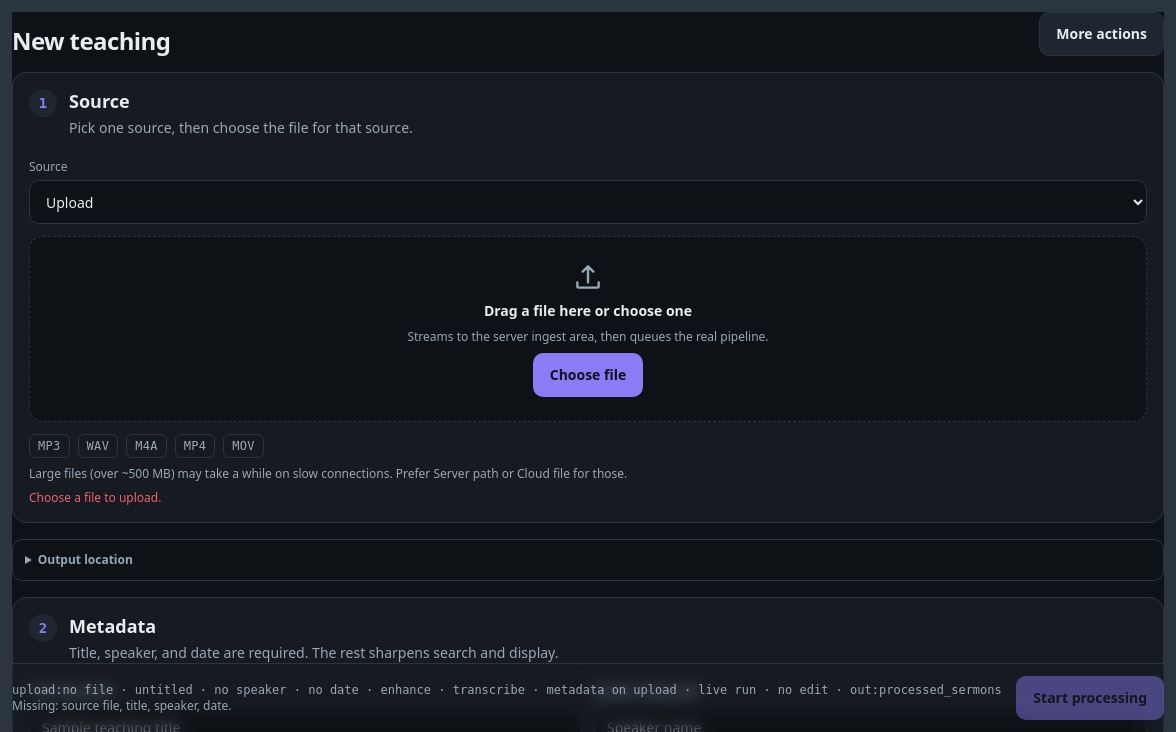
Test: NewSermon source options › exposes one source select and shows only the picker for the chosen source
Check: the panel with id "source-panel-browser" is shown, box 29,236 -> 1147,506
Select "Server path" in the dropdown labelled "Source" at (588, 202), box 29,180 -> 1147,224
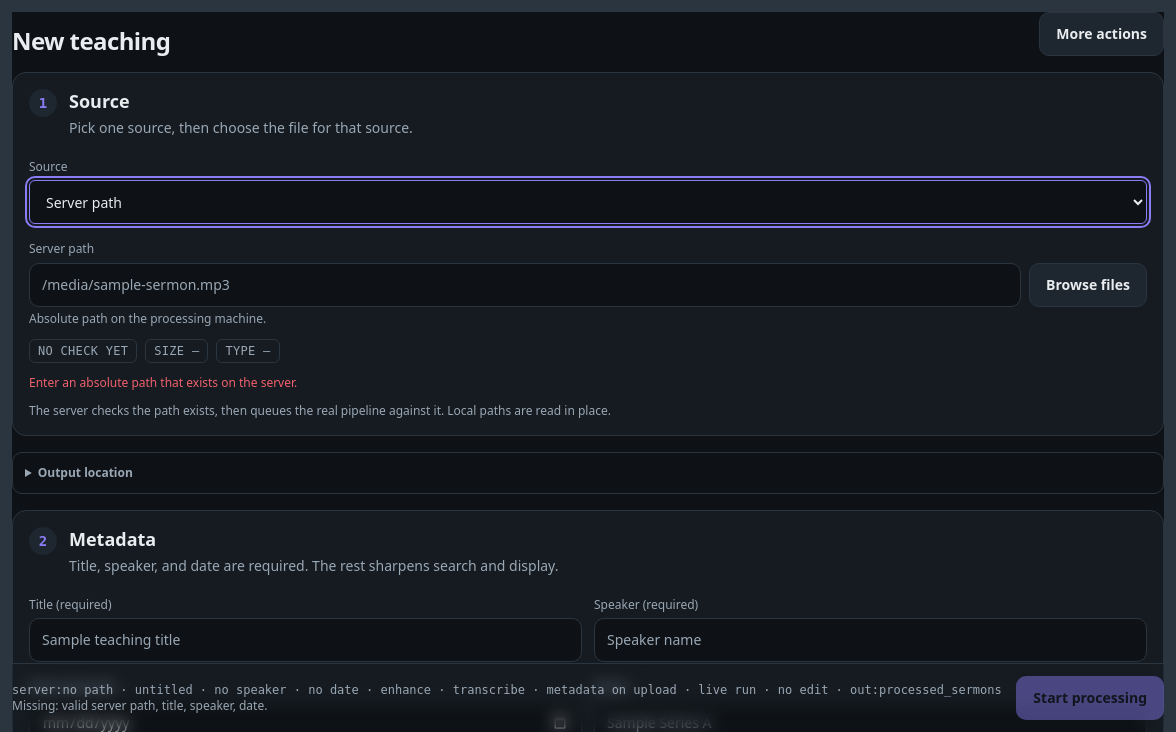
Check: the panel with id "source-panel-server" is shown, box 29,236 -> 1147,419
Check: the panel with id "source-panel-browser" is gone
Select "Cloud file" in the dropdown labelled "Source" at (588, 202), box 29,180 -> 1147,224
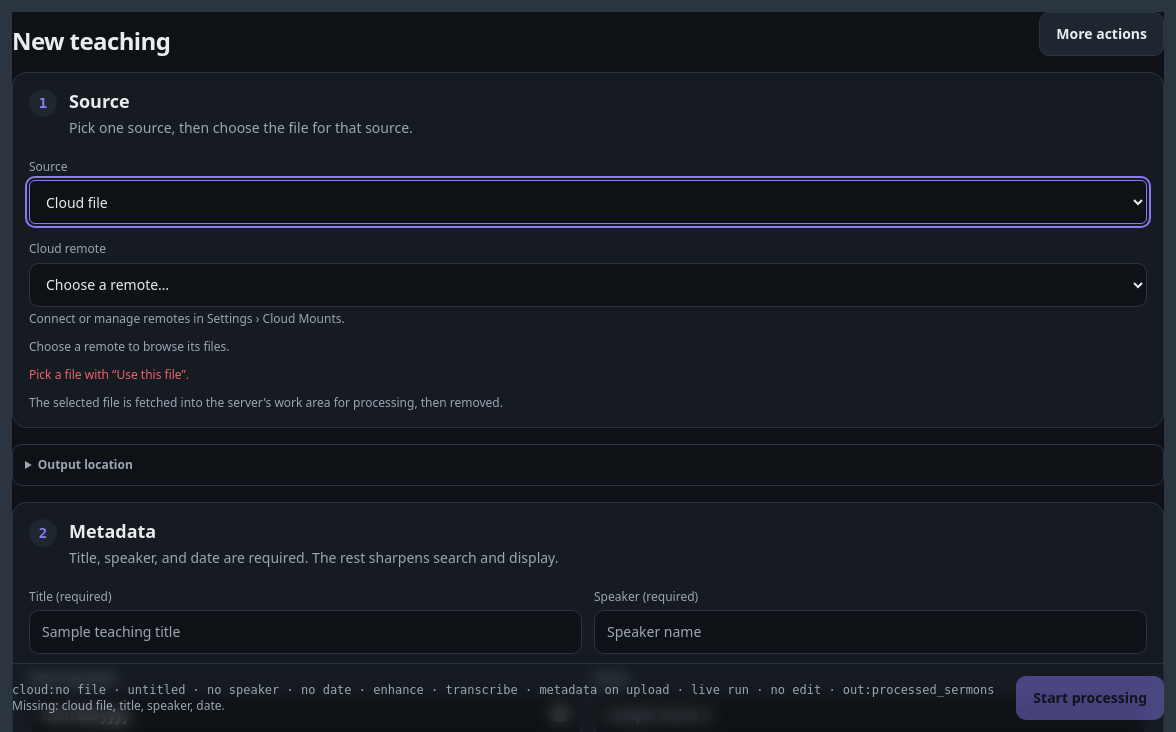
Check: the panel with id "source-panel-cloud" is shown, box 29,236 -> 1147,411
Check: the panel with id "source-panel-server" is gone
